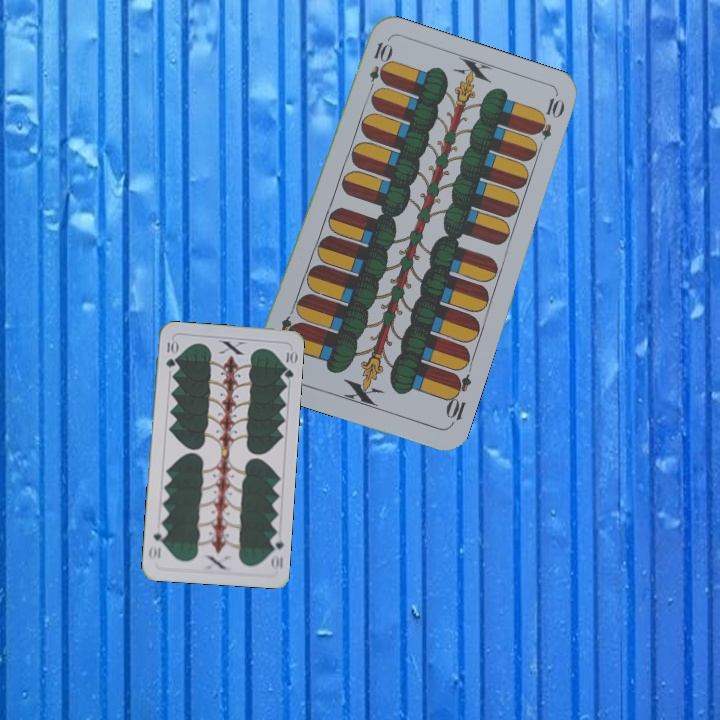E10: (441, 369, 474, 428), (364, 38, 392, 97)
G10: (266, 531, 286, 572), (162, 336, 179, 370)
